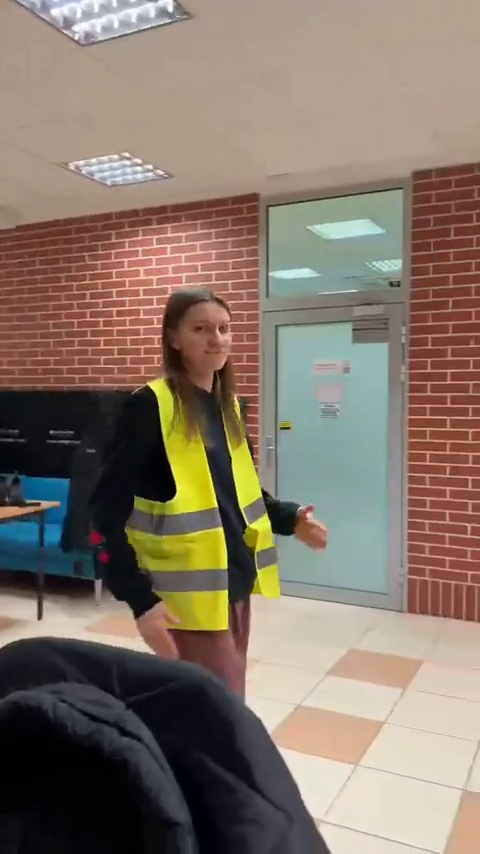vest: (92, 286, 335, 670)
